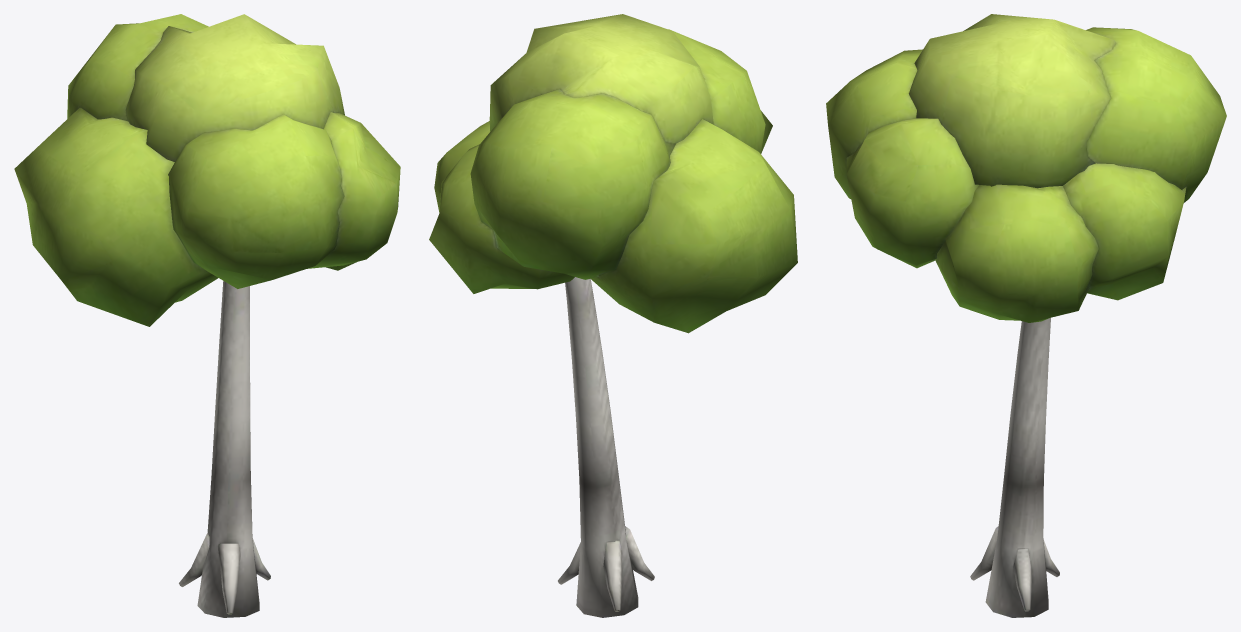
The model's file is birch.glb.
The picture shows the model from 3 angles, left to right: view 1: azimuth 30°, elevation 25°; view 2: azimuth 150°, elevation 25°; view 3: azimuth 270°, elevation 25°; orthographic projection.
Visible parts, largest first — view 1: birch; view 2: birch; view 3: birch.
Part boxes in pixels (x1=…): birch: x1=14, y1=14, x2=400, y2=617; birch: x1=429, y1=14, x2=797, y2=617; birch: x1=826, y1=14, x2=1226, y2=617.
Bounding box in the file's own units: 3.63 × 5.95 × 3.7.
Materials: 2 (2 with a texture image).
